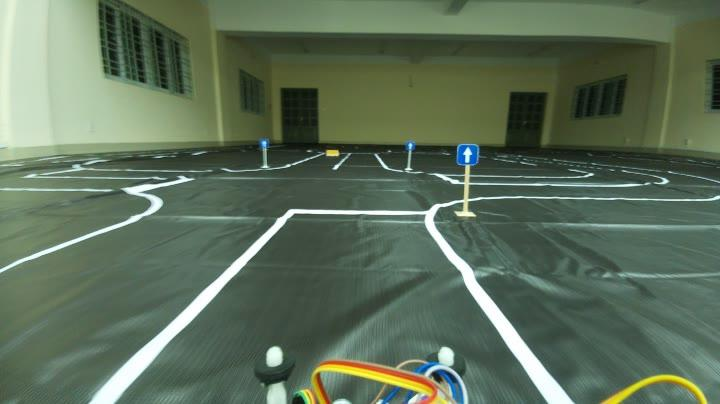onewayroad: (454, 141, 479, 166), (404, 139, 414, 149), (260, 136, 269, 146)
roadblock: (324, 149, 344, 161)
